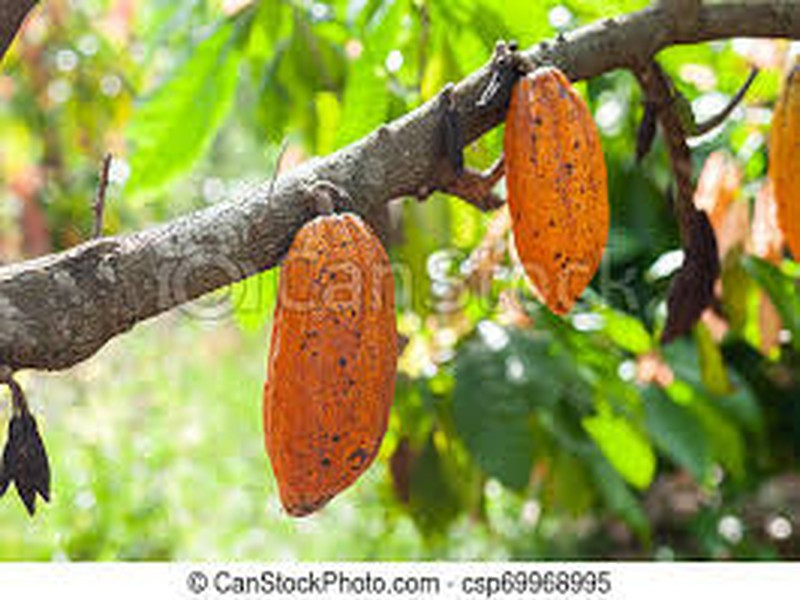Cacaopod: (263, 214, 398, 517)
